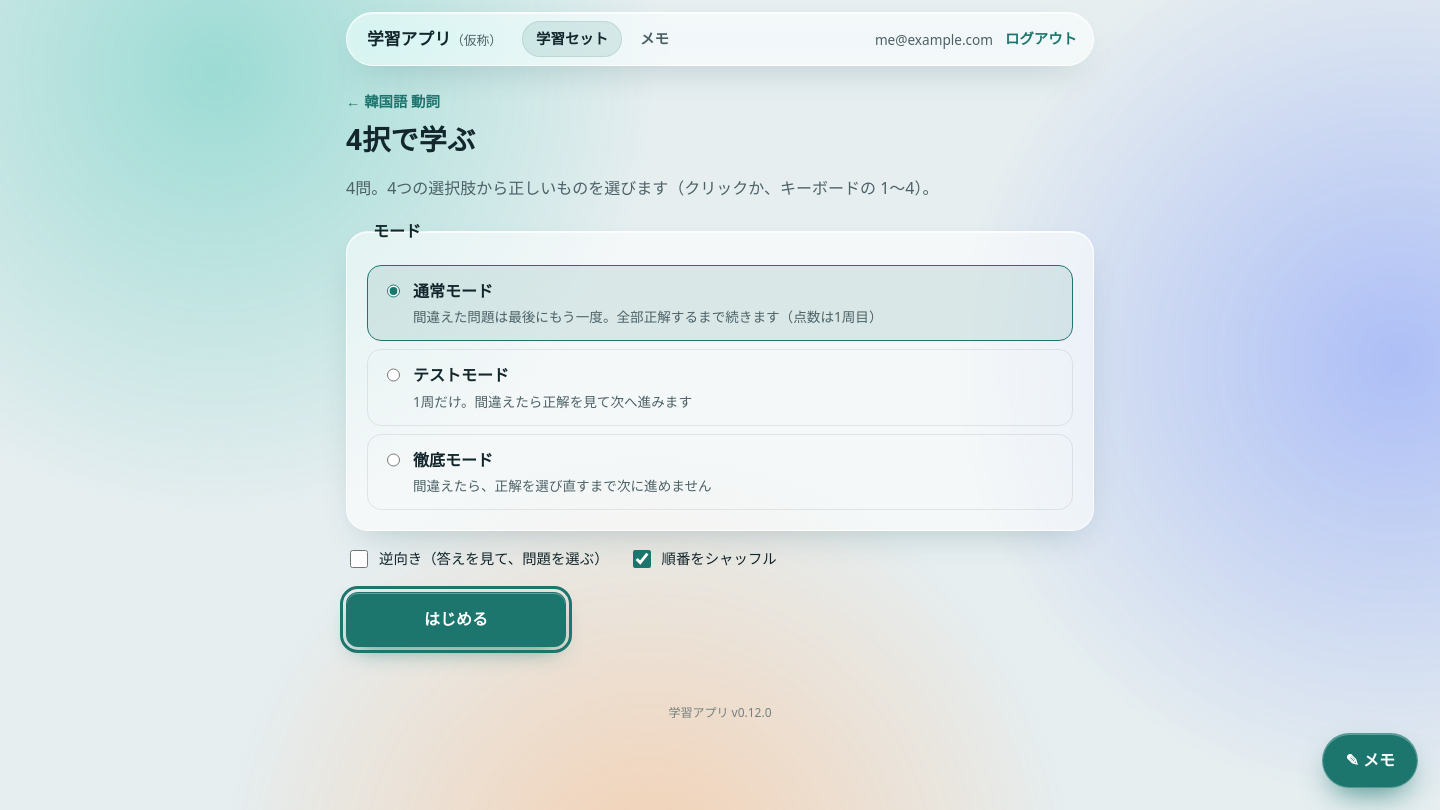
it: 4択で学ぶ › キーボードの 1〜4 で選べる
Click the radio button labelled "テストモード 1周だけ。間違えたら正解を見て次へ進みます" at (394, 375), box [387,366,400,384]
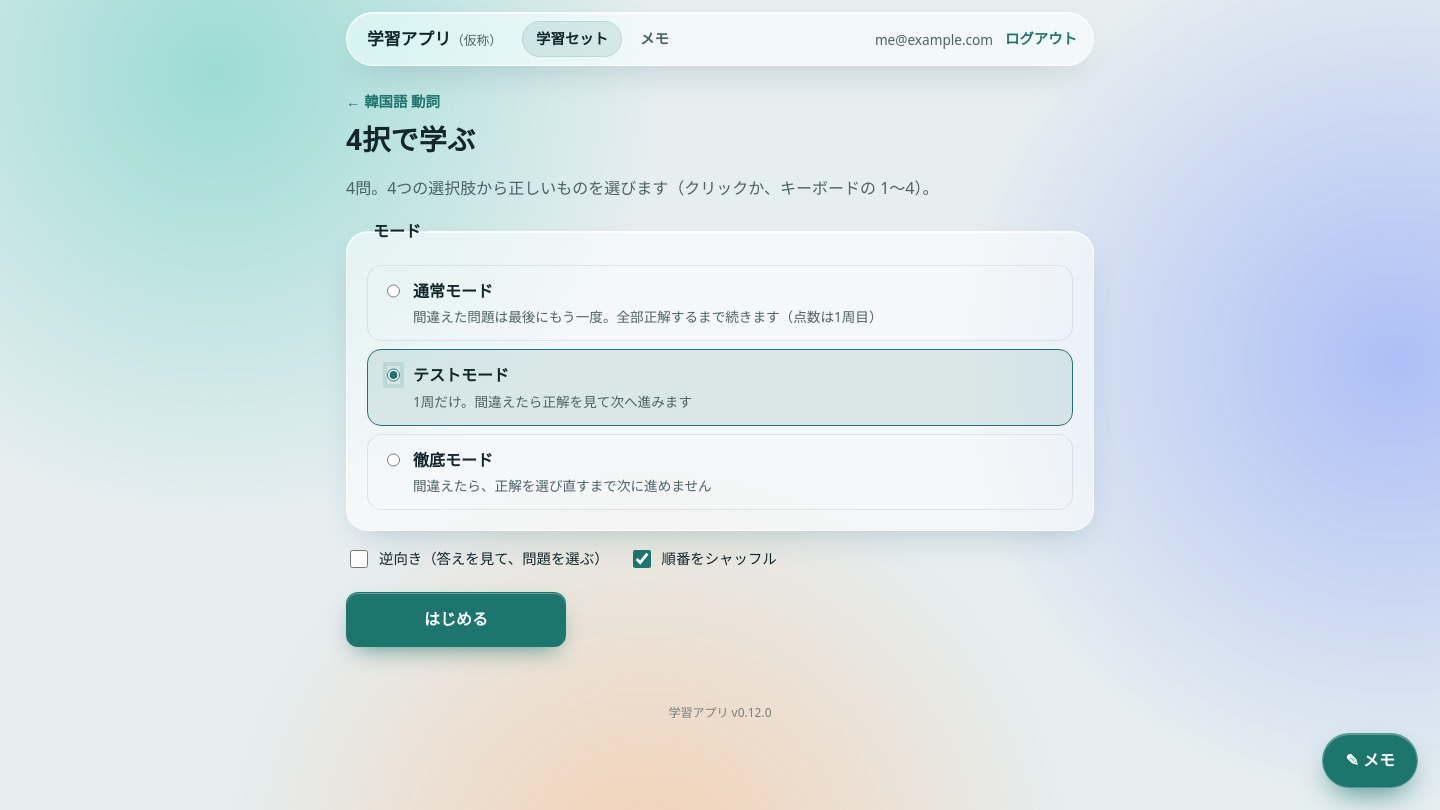
Click the checkbox labelled "順番をシャッフル" at (642, 559), box [632,550,650,568]
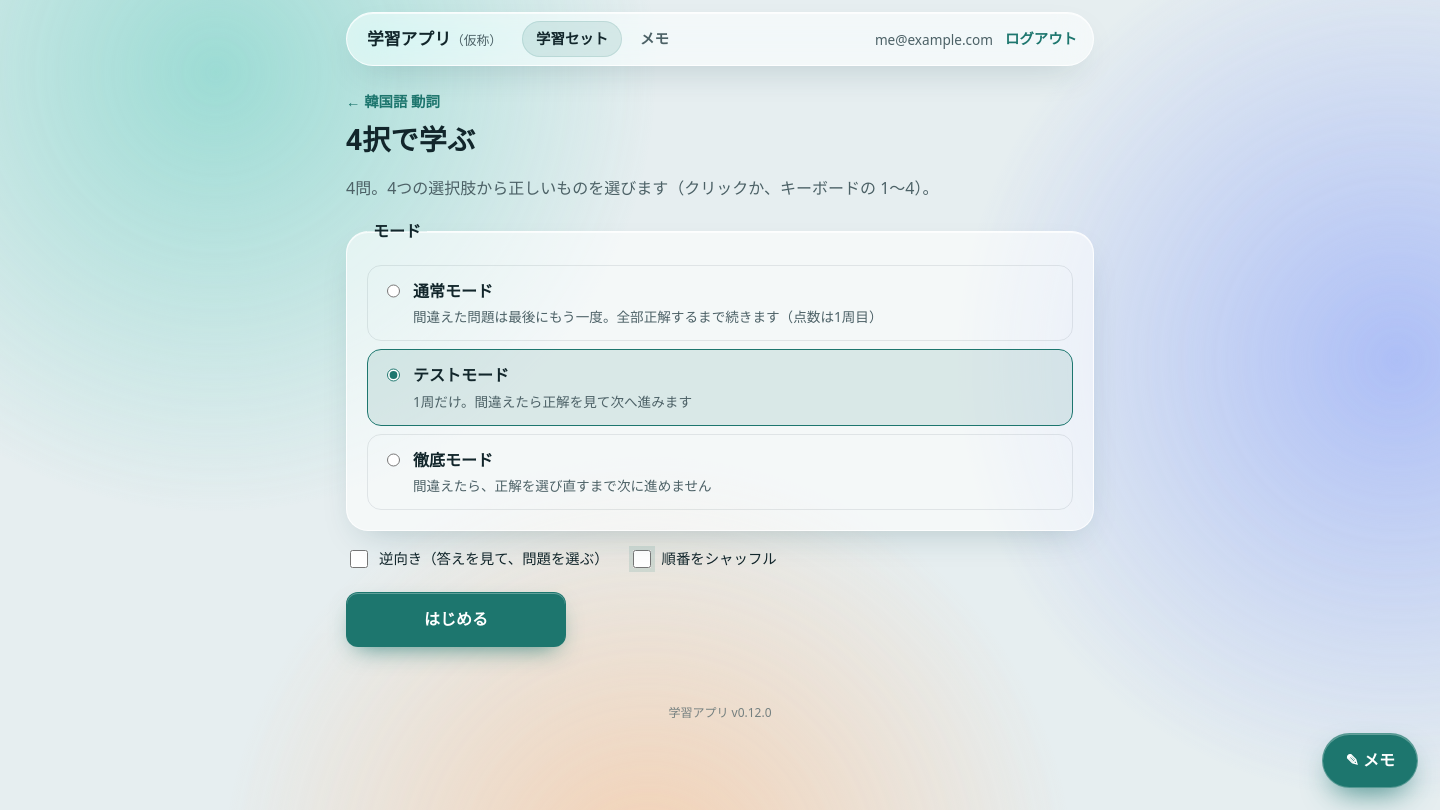
Click the button "はじめる" at (456, 619), box [346,592,566,647]
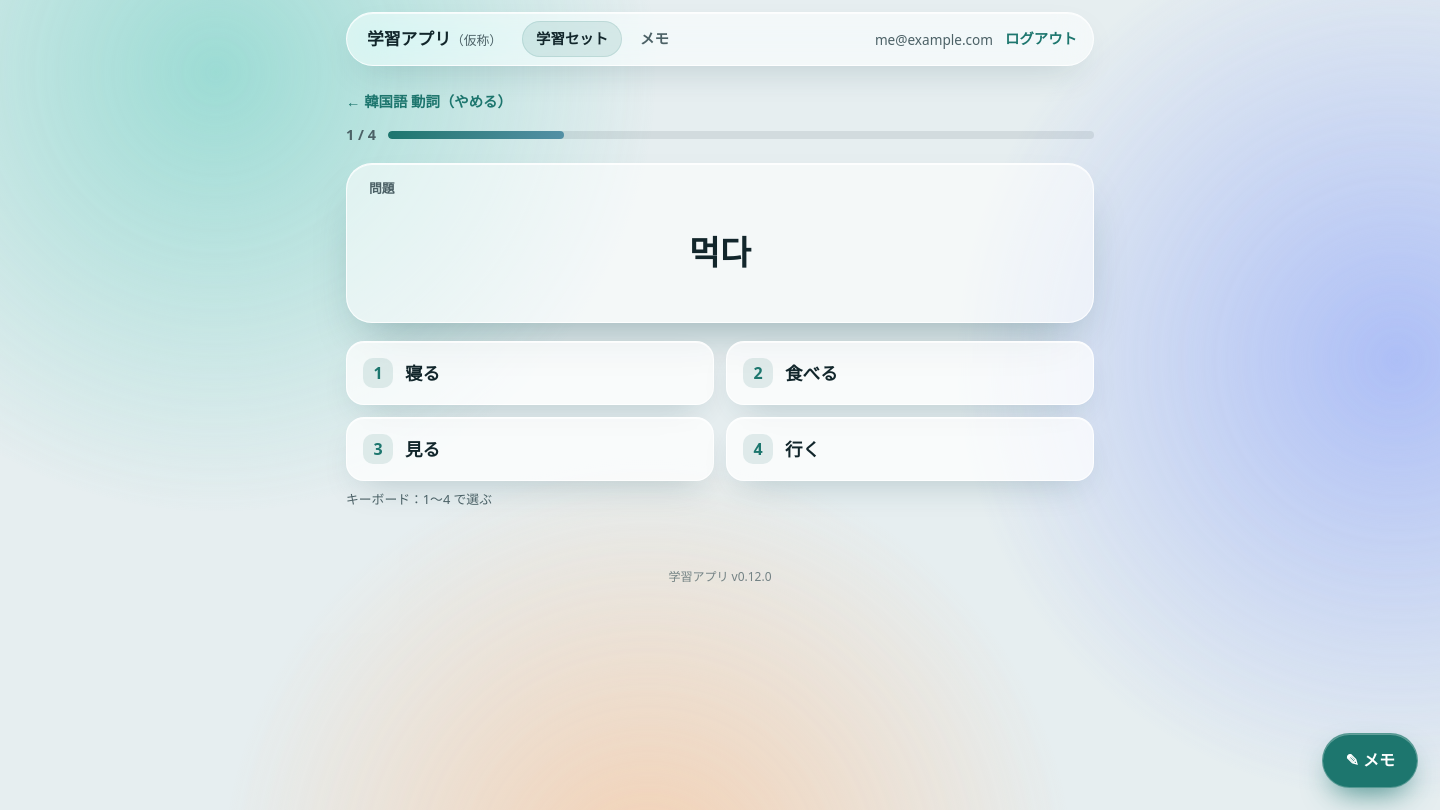
Type keys "2"
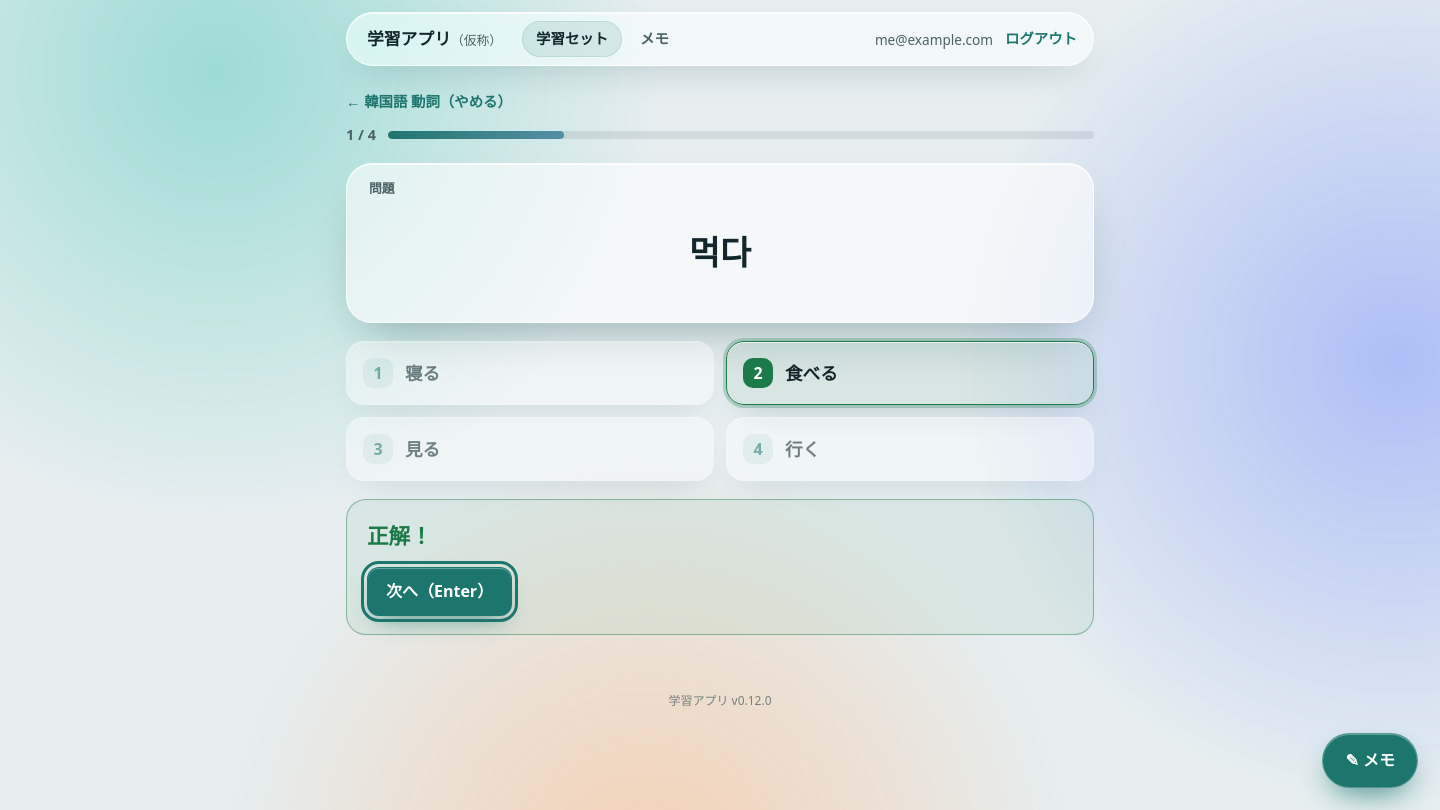
Expected: the message reads "正解！", [367,522,432,550]
